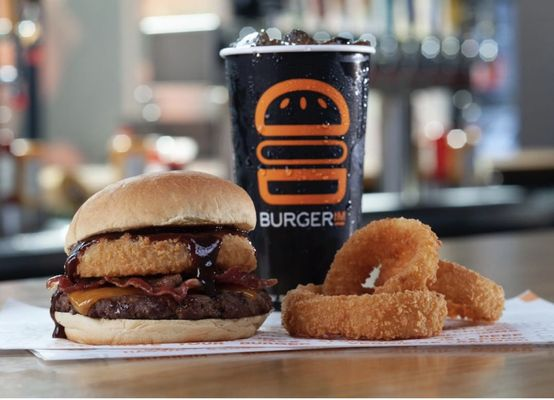soup: (47, 170, 277, 346)
